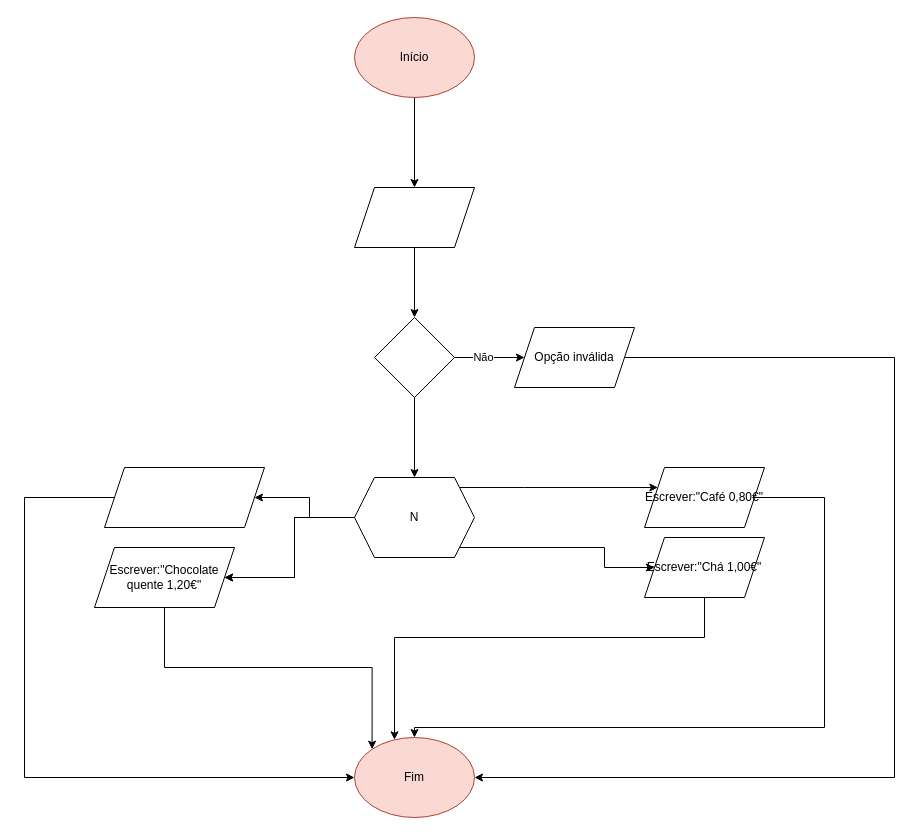
This 920x835 diagram has some shape labels left out. The centre of each missing label's shape, as x and y in pixels:
Escrever:"Cappuccino 1,50€": [184,497]
Ler N: [414,217]
N<0 E N>4: [414,357]
